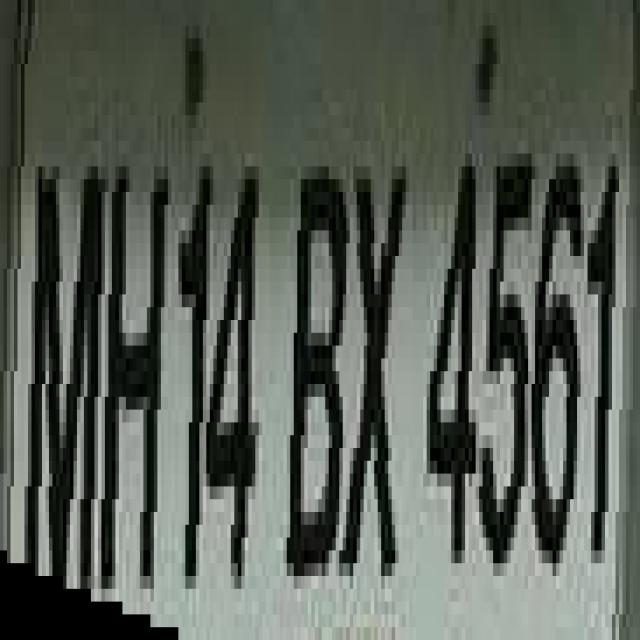license_plate: (10, 38, 640, 640)
